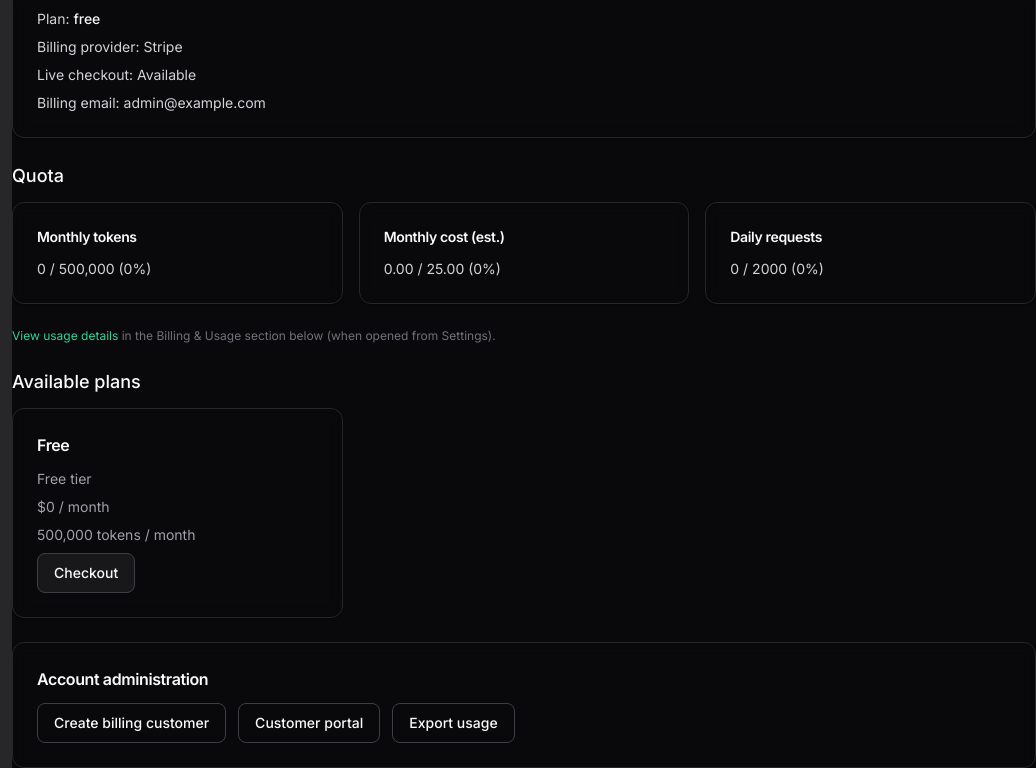
BillingPageView product voice › does not invent currency on export when plans omit currency codes
(page scrolled)
What coordinates should you click on to do the following:
click the button "Export usage"
I would click on:
 (453, 723)
Its box is [392,703,515,743].
(page scrolled)
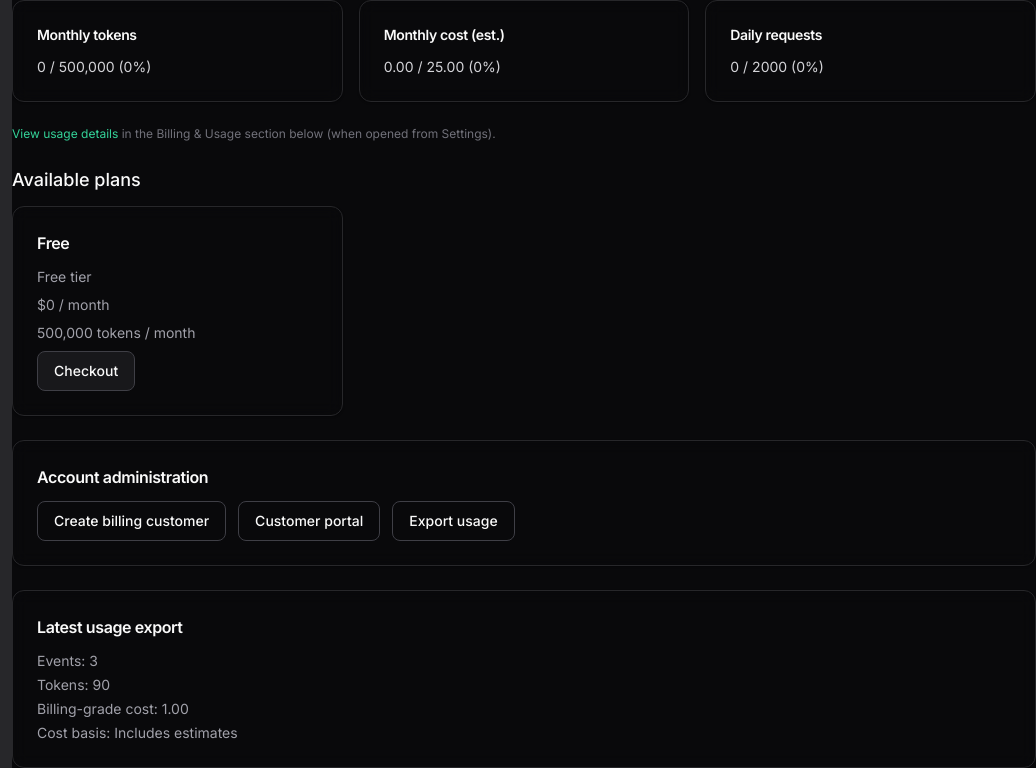
Check: the text "Billing-grade cost: 1.00" is shown, box [37,700,189,717]
Check: the text with test id "usage-export-cost" shows "1.00", box [162,700,189,717]
